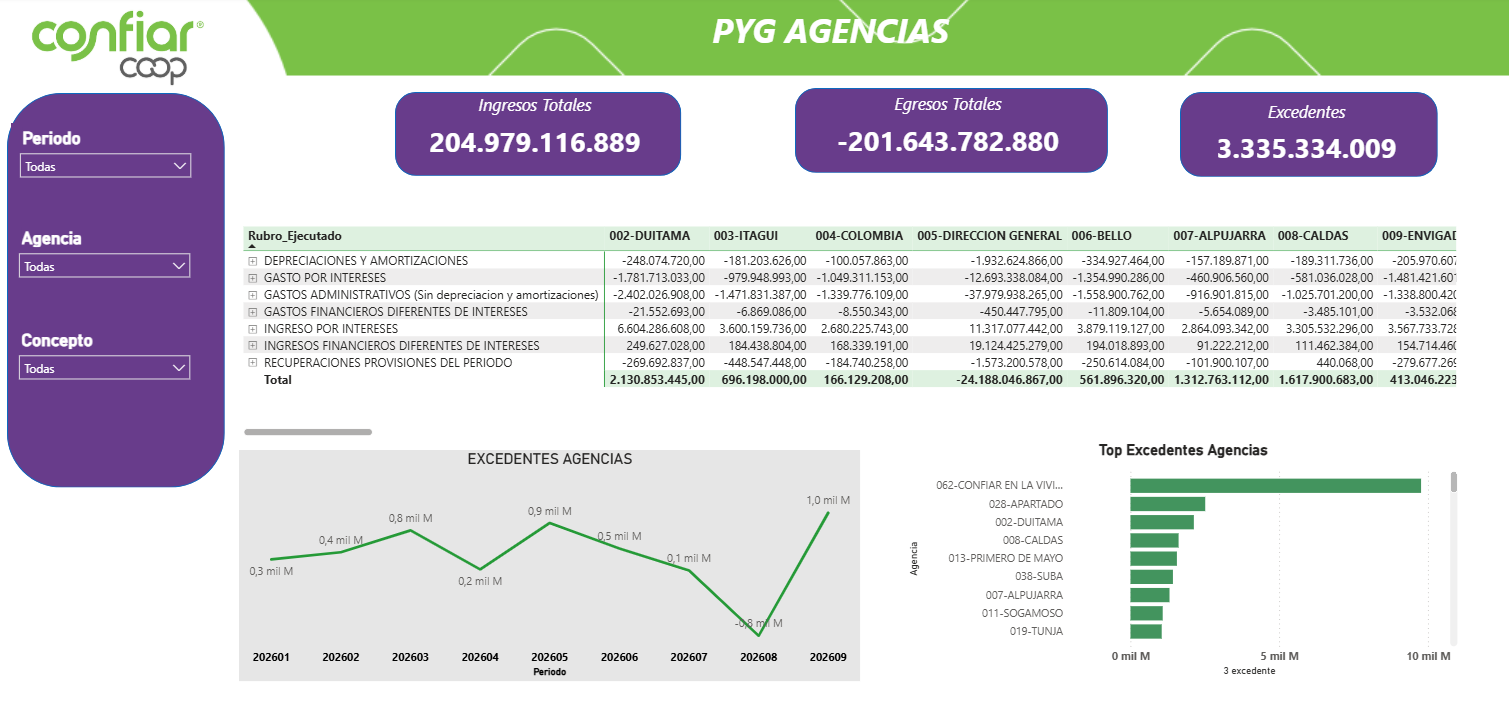

The dashboard page shown, as its layout file describes it:
{"tool":"powerbi","page":{"name":"Página 1","canvas":[1700,800],"ordinal":0},"visuals":[{"type":"shape","box":[11.5,107.7,244,442.2],"z":0},{"type":"shape","box":[445.6,106.5,320.8,93.9],"z":1000},{"type":"image","box":[193.6,0,1806.5,88.2],"z":2000},{"type":"image","box":[0,6.9,271.5,100.8],"z":3000},{"type":"textbox","box":[698.8,6.9,469.7,74.5],"z":4000},{"type":"card","title":"Ingresos Totales","fields":{"Values":["default_1.IngresoTotal"]},"box":[427.3,107.7,351.7,83.6],"z":5000},{"type":"slicer","fields":{"Values":["default_1.Periodo"]},"box":[16,140.9,211.9,75.6],"z":6000},{"type":"shape","box":[894.7,102,350.5,95.1],"z":7000},{"type":"card","title":"Egresos Totales","fields":{"Values":["default_1.2 -EgresosTotales"]},"box":[910.7,106.5,309.3,83.6],"z":8000},{"type":"shape","title":"Excedentes","box":[1325.4,106.5,288.7,95.1],"z":9000},{"type":"card","title":"Excedentes","fields":{"Values":["default_1.3 excedente"]},"box":[1331.1,115.7,272.6,82.5],"z":10000},{"type":"lineChart","title":"EXCEDENTES AGENCIAS","fields":{"Category":["default_1.Periodo"],"Y":["default_1.3 excedente"]},"box":[271.5,507.5,696.5,258.9],"z":11000},{"type":"slicer","fields":{"Values":["default_1.Agencia"]},"box":[14.9,253.2,211.9,80.2],"z":12000},{"type":"slicer","fields":{"Values":["default_1.Concepto_Ejecutado"]},"box":[14.9,367.7,211.9,77.9],"z":13000},{"type":"pivotTable","fields":{"Columns":["default_1.Agencia"],"Rows":["default_1.Rubro_Ejecutado","default_1.Concepto_Ejecutado"],"Values":["Sum(default_1.Movimiento)"]},"box":[271.5,252,1368.9,245.1],"z":14000},{"type":"clusteredBarChart","title":"Top Excedentes Agencias ","fields":{"Category":["default_1.Agencia"],"Y":["default_1.3 excedente"]},"box":[1018,498,624,268],"z":15000}]}

Visuals, with their boxes in screenshot pixels (x1, y1, x2, y2), scaled from the page's 1700x800 canvas onto the 1509x706 screenshot:
shape: {"x1": 10, "y1": 95, "x2": 227, "y2": 485}
shape: {"x1": 396, "y1": 94, "x2": 680, "y2": 177}
image: {"x1": 172, "y1": 0, "x2": 1508, "y2": 78}
image: {"x1": 0, "y1": 6, "x2": 241, "y2": 95}
textbox: {"x1": 620, "y1": 6, "x2": 1037, "y2": 72}
"Ingresos Totales" card: {"x1": 379, "y1": 95, "x2": 691, "y2": 169}
slicer - default_1.Periodo: {"x1": 14, "y1": 124, "x2": 202, "y2": 191}
shape: {"x1": 794, "y1": 90, "x2": 1105, "y2": 174}
"Egresos Totales" card: {"x1": 808, "y1": 94, "x2": 1083, "y2": 168}
"Excedentes" shape: {"x1": 1176, "y1": 94, "x2": 1433, "y2": 178}
"Excedentes" card: {"x1": 1182, "y1": 102, "x2": 1424, "y2": 175}
"EXCEDENTES AGENCIAS" lineChart: {"x1": 241, "y1": 448, "x2": 859, "y2": 676}
slicer - default_1.Agencia: {"x1": 13, "y1": 223, "x2": 201, "y2": 294}
slicer - default_1.Concepto_Ejecutado: {"x1": 13, "y1": 324, "x2": 201, "y2": 393}
pivotTable - default_1.Agencia x default_1.Rubro_Ejecutado: {"x1": 241, "y1": 222, "x2": 1456, "y2": 439}
"Top Excedentes Agencias " clusteredBarChart: {"x1": 904, "y1": 439, "x2": 1458, "y2": 676}
